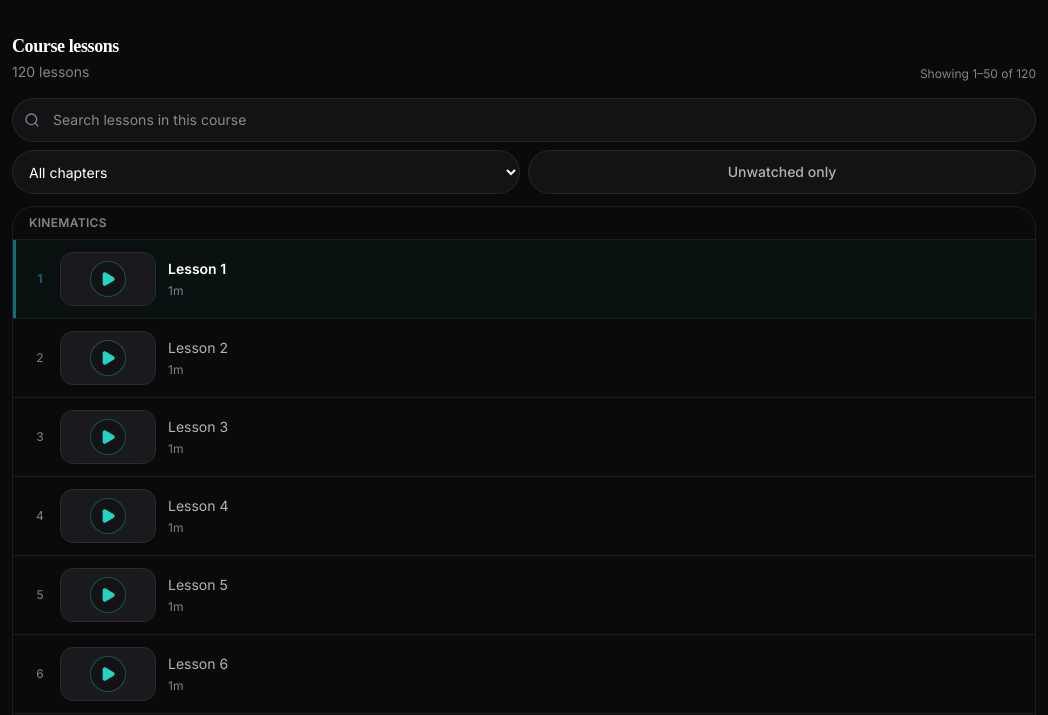
it: large course lesson sequence › offers a useful reset when no lesson matches
The width and height of the screenshot is (1048, 715).
Type "a title that is not present" into the search field labelled "Search lessons in this course".
click(524, 120); type("a title that is not present")  # box left=12, top=98, right=1036, bottom=142
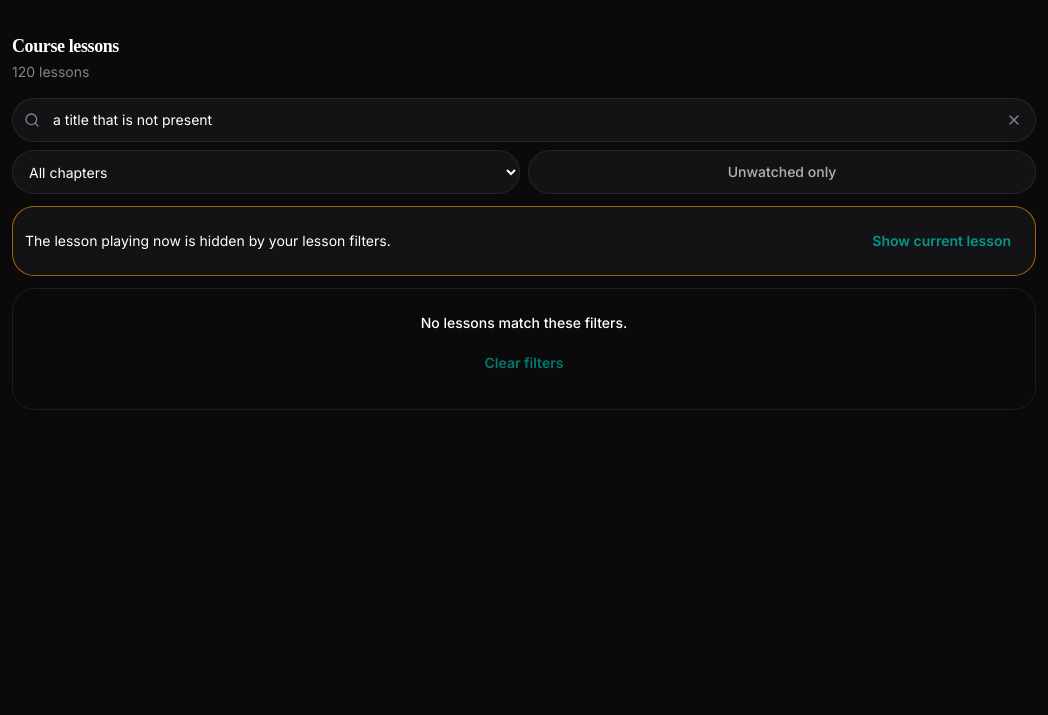
Check: the text "No lessons match these filters." is shown, box left=421, top=314, right=627, bottom=331
Click the button "Clear filters".
click(524, 363)  # box left=472, top=341, right=575, bottom=385
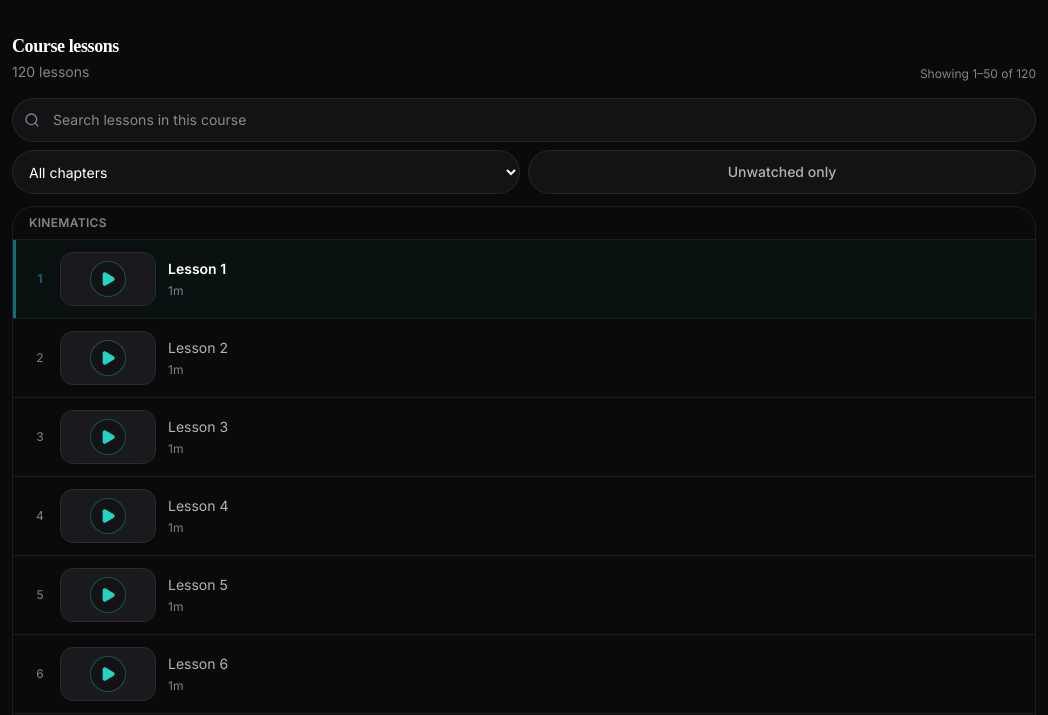
Check: the text "Lesson 1" is shown, box left=168, top=260, right=226, bottom=277
